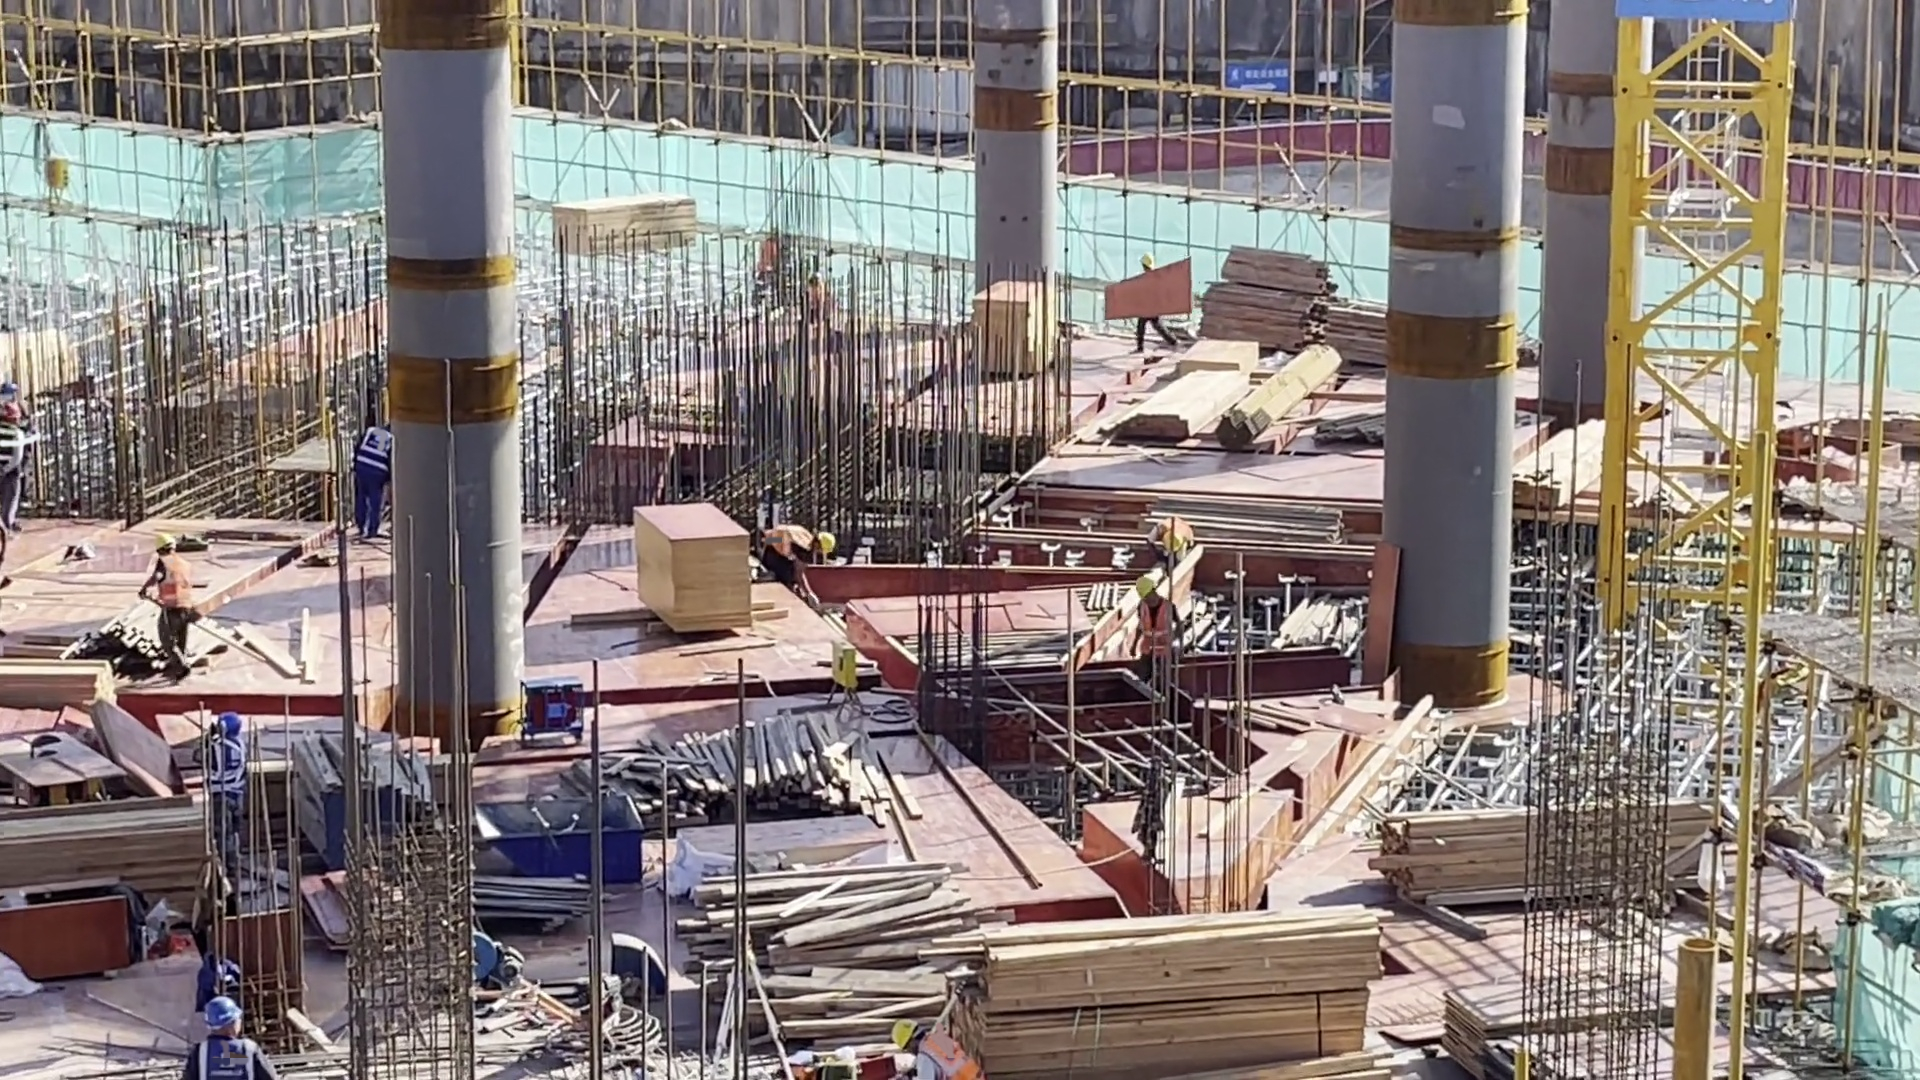board: (624, 466, 774, 652), (1444, 964, 1669, 1080), (976, 277, 1063, 378)
cutter: (1731, 404, 1864, 487)
ebox: (828, 639, 863, 687)
fence: (1676, 137, 1920, 219), (1106, 119, 1391, 171)
helmet: (210, 1001, 244, 1033), (893, 1019, 924, 1051), (210, 715, 240, 743), (1163, 522, 1185, 556), (1136, 571, 1151, 595), (822, 532, 835, 559), (158, 535, 176, 556), (4, 379, 19, 398), (810, 268, 820, 289), (1137, 256, 1155, 267), (768, 226, 776, 236)
hopper: (478, 784, 641, 896)
person: (141, 528, 196, 680), (208, 718, 257, 879), (184, 997, 274, 1080), (892, 1016, 985, 1080), (766, 516, 842, 594), (1136, 574, 1186, 687), (349, 416, 393, 529), (1134, 255, 1174, 349), (11, 384, 34, 530), (1157, 514, 1209, 566), (807, 274, 834, 355), (762, 225, 783, 314)
vest: (199, 1029, 268, 1077), (746, 522, 808, 572), (359, 422, 393, 499), (1148, 584, 1179, 666), (146, 557, 186, 619), (213, 731, 244, 804), (929, 1024, 966, 1080), (1158, 504, 1193, 559), (1, 411, 23, 481), (813, 276, 834, 336), (768, 232, 781, 297)
wood: (948, 924, 1439, 1069), (741, 856, 1046, 1077), (1386, 792, 1764, 896), (29, 797, 216, 926), (1216, 242, 1411, 357), (663, 716, 943, 794), (563, 172, 703, 259), (1136, 347, 1209, 444), (1516, 426, 1601, 509), (1218, 332, 1334, 392), (11, 649, 114, 707)
